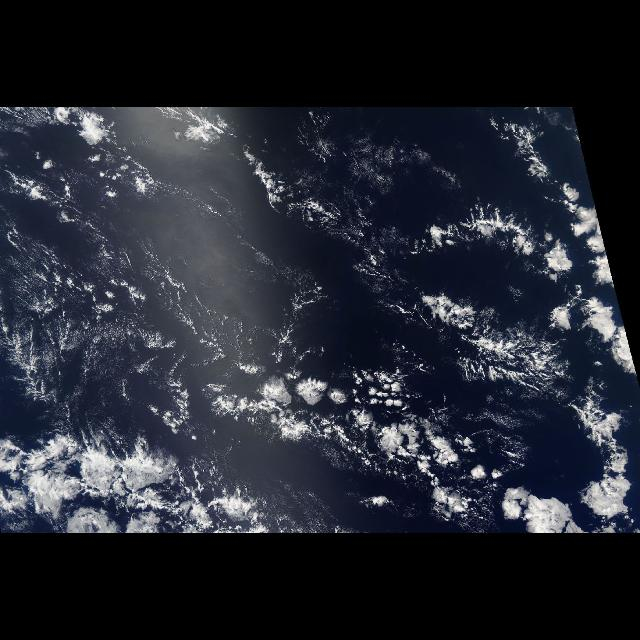Fish: (410, 280, 568, 394)
Flower: (185, 187, 639, 533)
Sugar: (0, 190, 302, 386)
